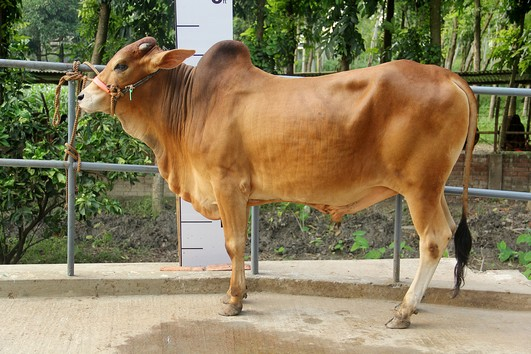cow: (71, 33, 489, 330)
